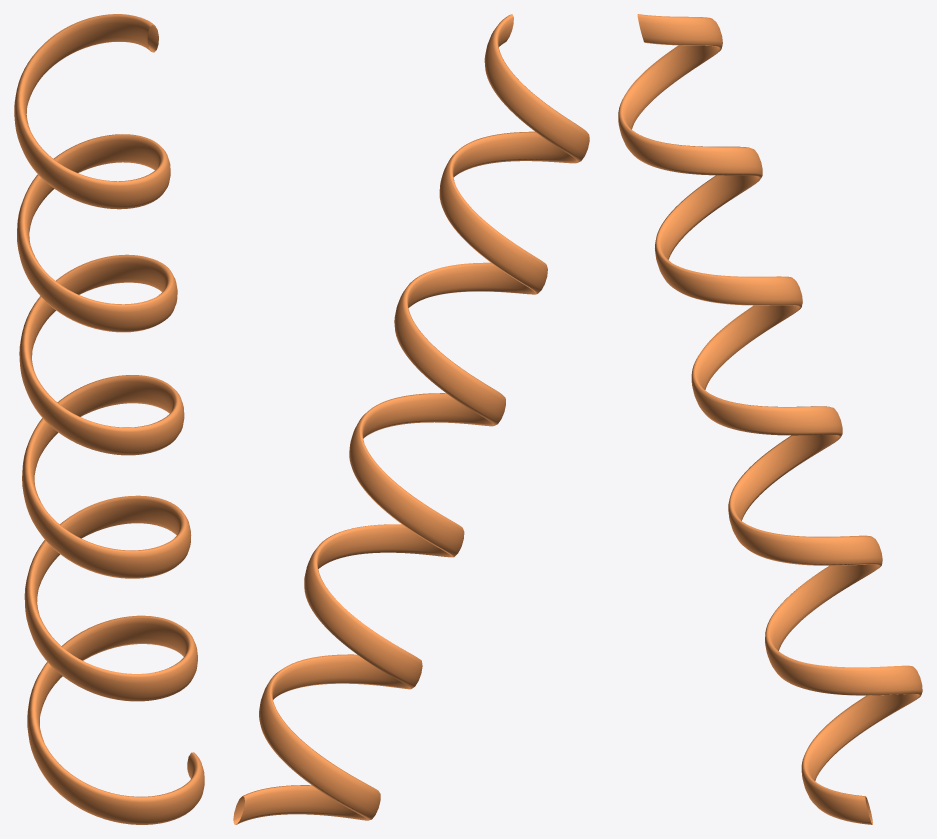
Rendered from visual-spring.glb.
3 renders of one model, left to right at view 1: azimuth 30°, elevation 25°; view 2: azimuth 150°, elevation 25°; view 3: azimuth 270°, elevation 25°, orthographic. The views are drawn at different scales.
Parts seen in each view (by area): view 1: Spiral.002; view 2: Spiral.002; view 3: Spiral.002.
Boxes of the visible parts, x1,y1,x2,y2 form: Spiral.002: [14, 14, 204, 824]; Spiral.002: [233, 14, 589, 824]; Spiral.002: [618, 14, 922, 824].
Size of the model in its own units: 1.12 by 3.27 by 1.22.
